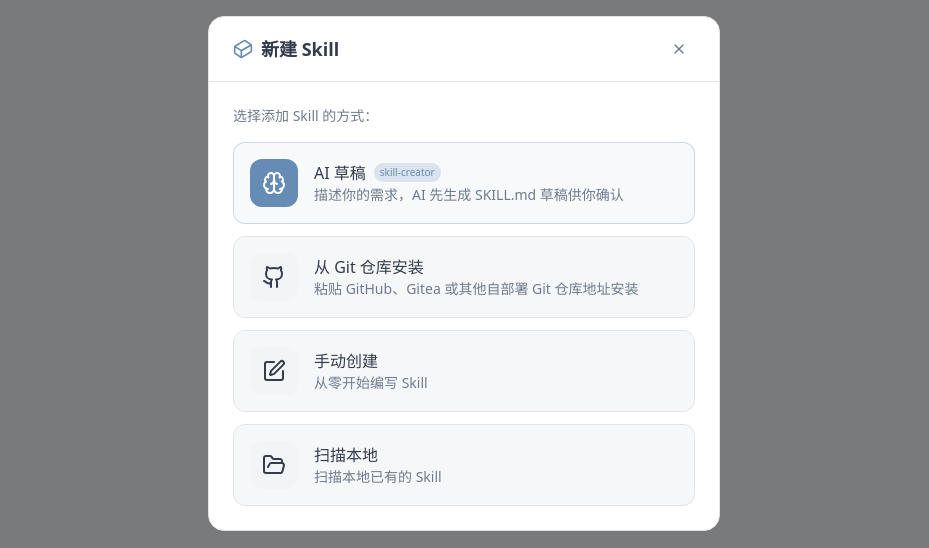
Test case: CreateSkillModal GitHub import › shows invalid repository guidance when the GitHub repo does not exist
The image size is (929, 548).
Click the heading "从 Git 仓库安装": (369, 266) [314,256,424,278]
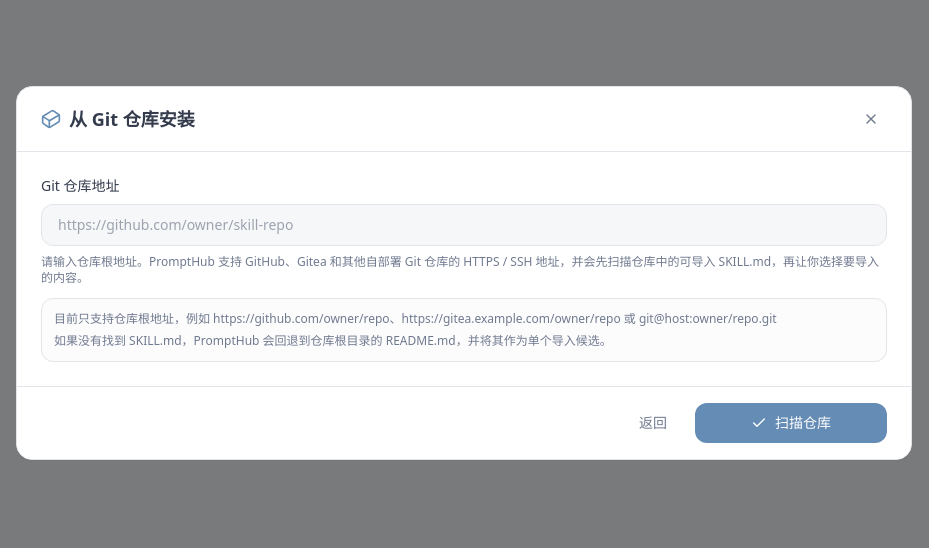
In the field with placeholder "https://github.com/owner/skill-repo": (464, 225) [41,204,887,246], type "https://github.com/demo/missing-repo"
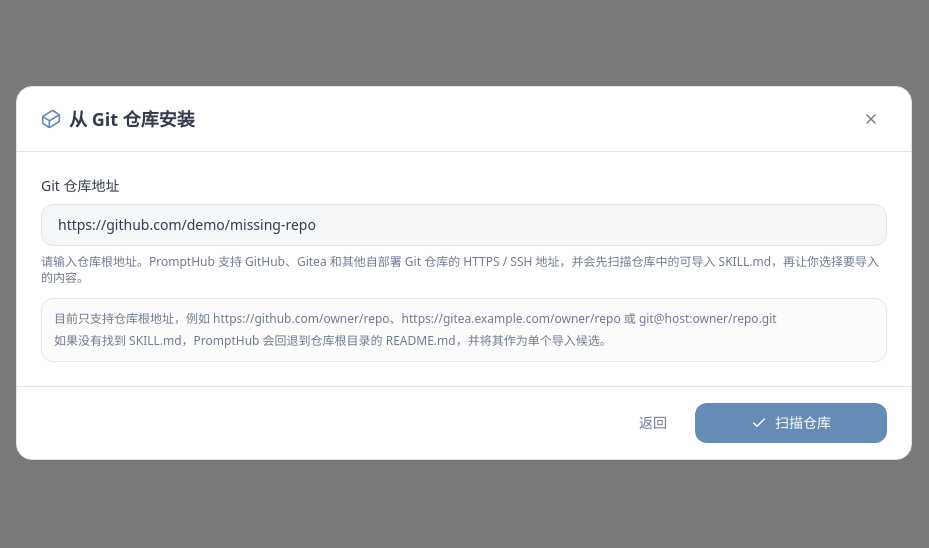
Click the button "扫描仓库": (791, 423) [695,403,887,443]
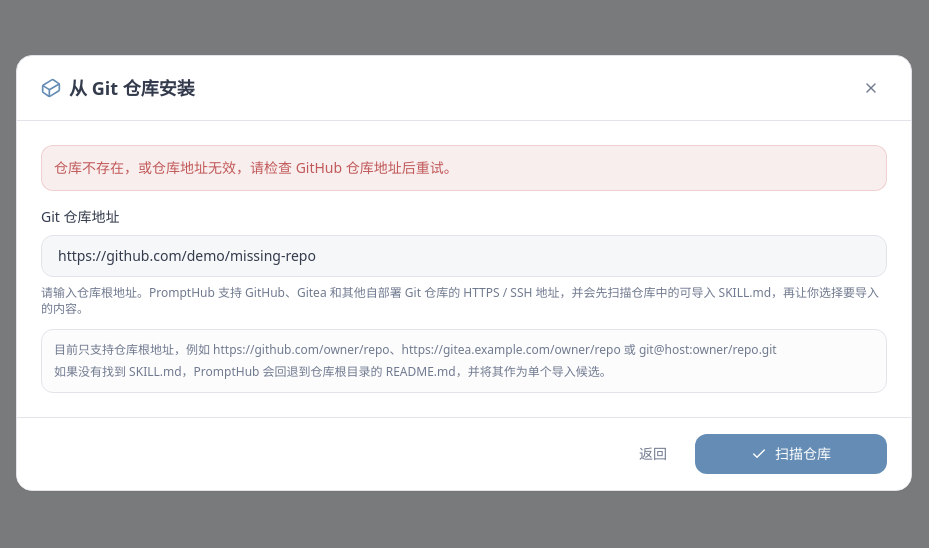
Expected: the text "仓库不存在，或仓库地址无效，请检查 GitHub 仓库地址后重试。" is shown, [41,145,887,191]
